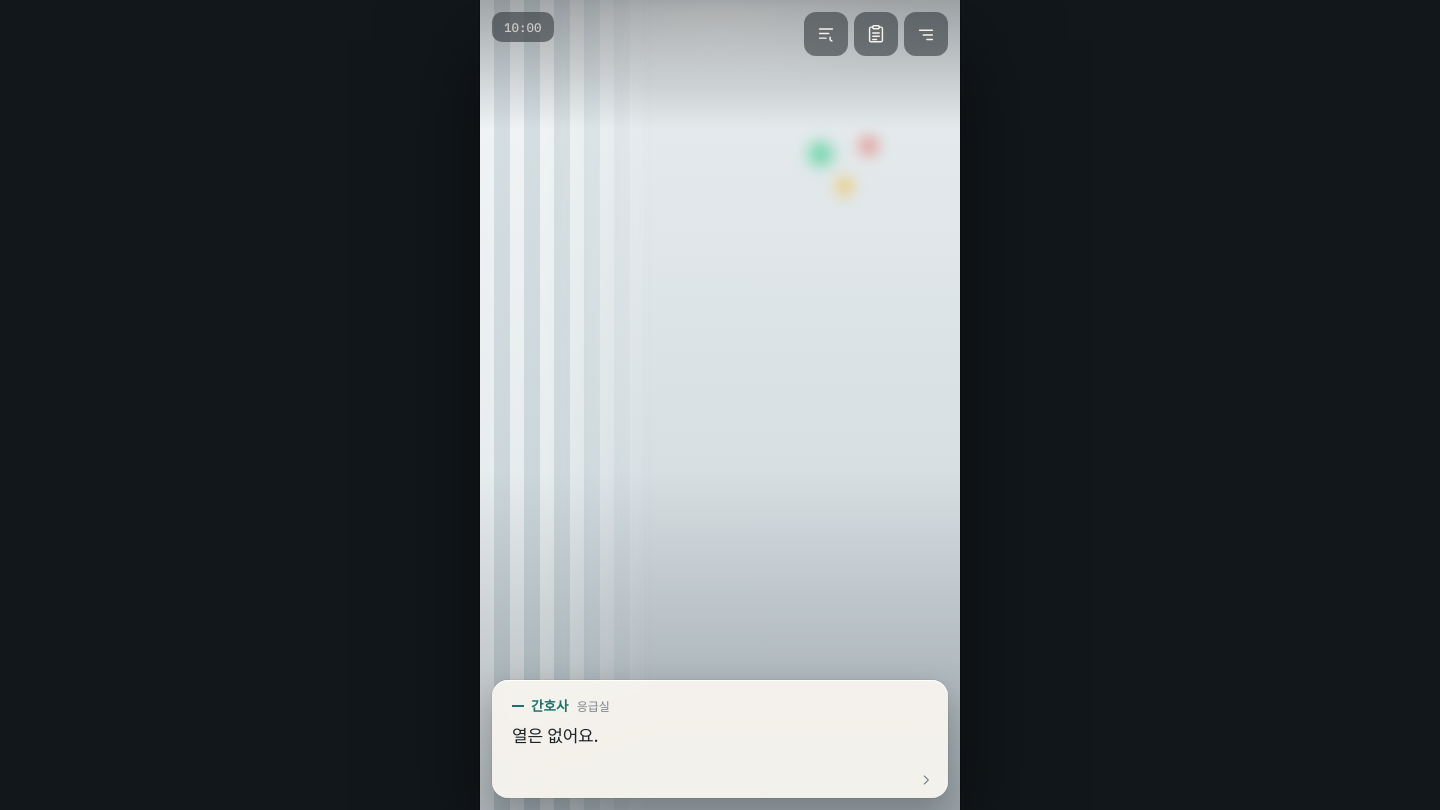
Stage › passes silently through empty nodes and stops at real choices
Click the button named "다음". click: (720, 405)
box: [480,0,960,809]
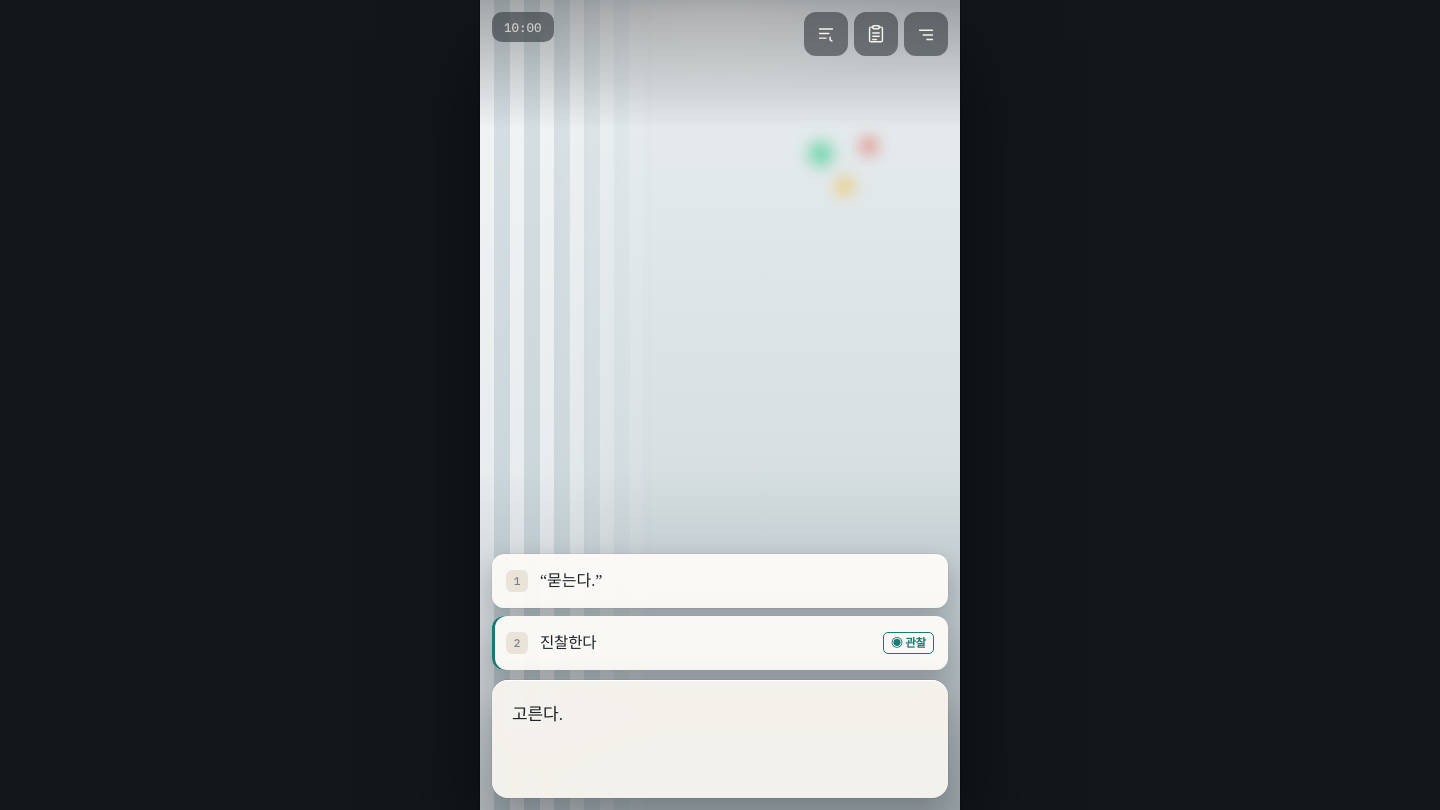
expect the element named "선택지" is shown: met, box [492,554,948,670]
expect the button with aria-label "진찰한다 (관찰 판정)" is shown: met, box [492,616,948,670]
